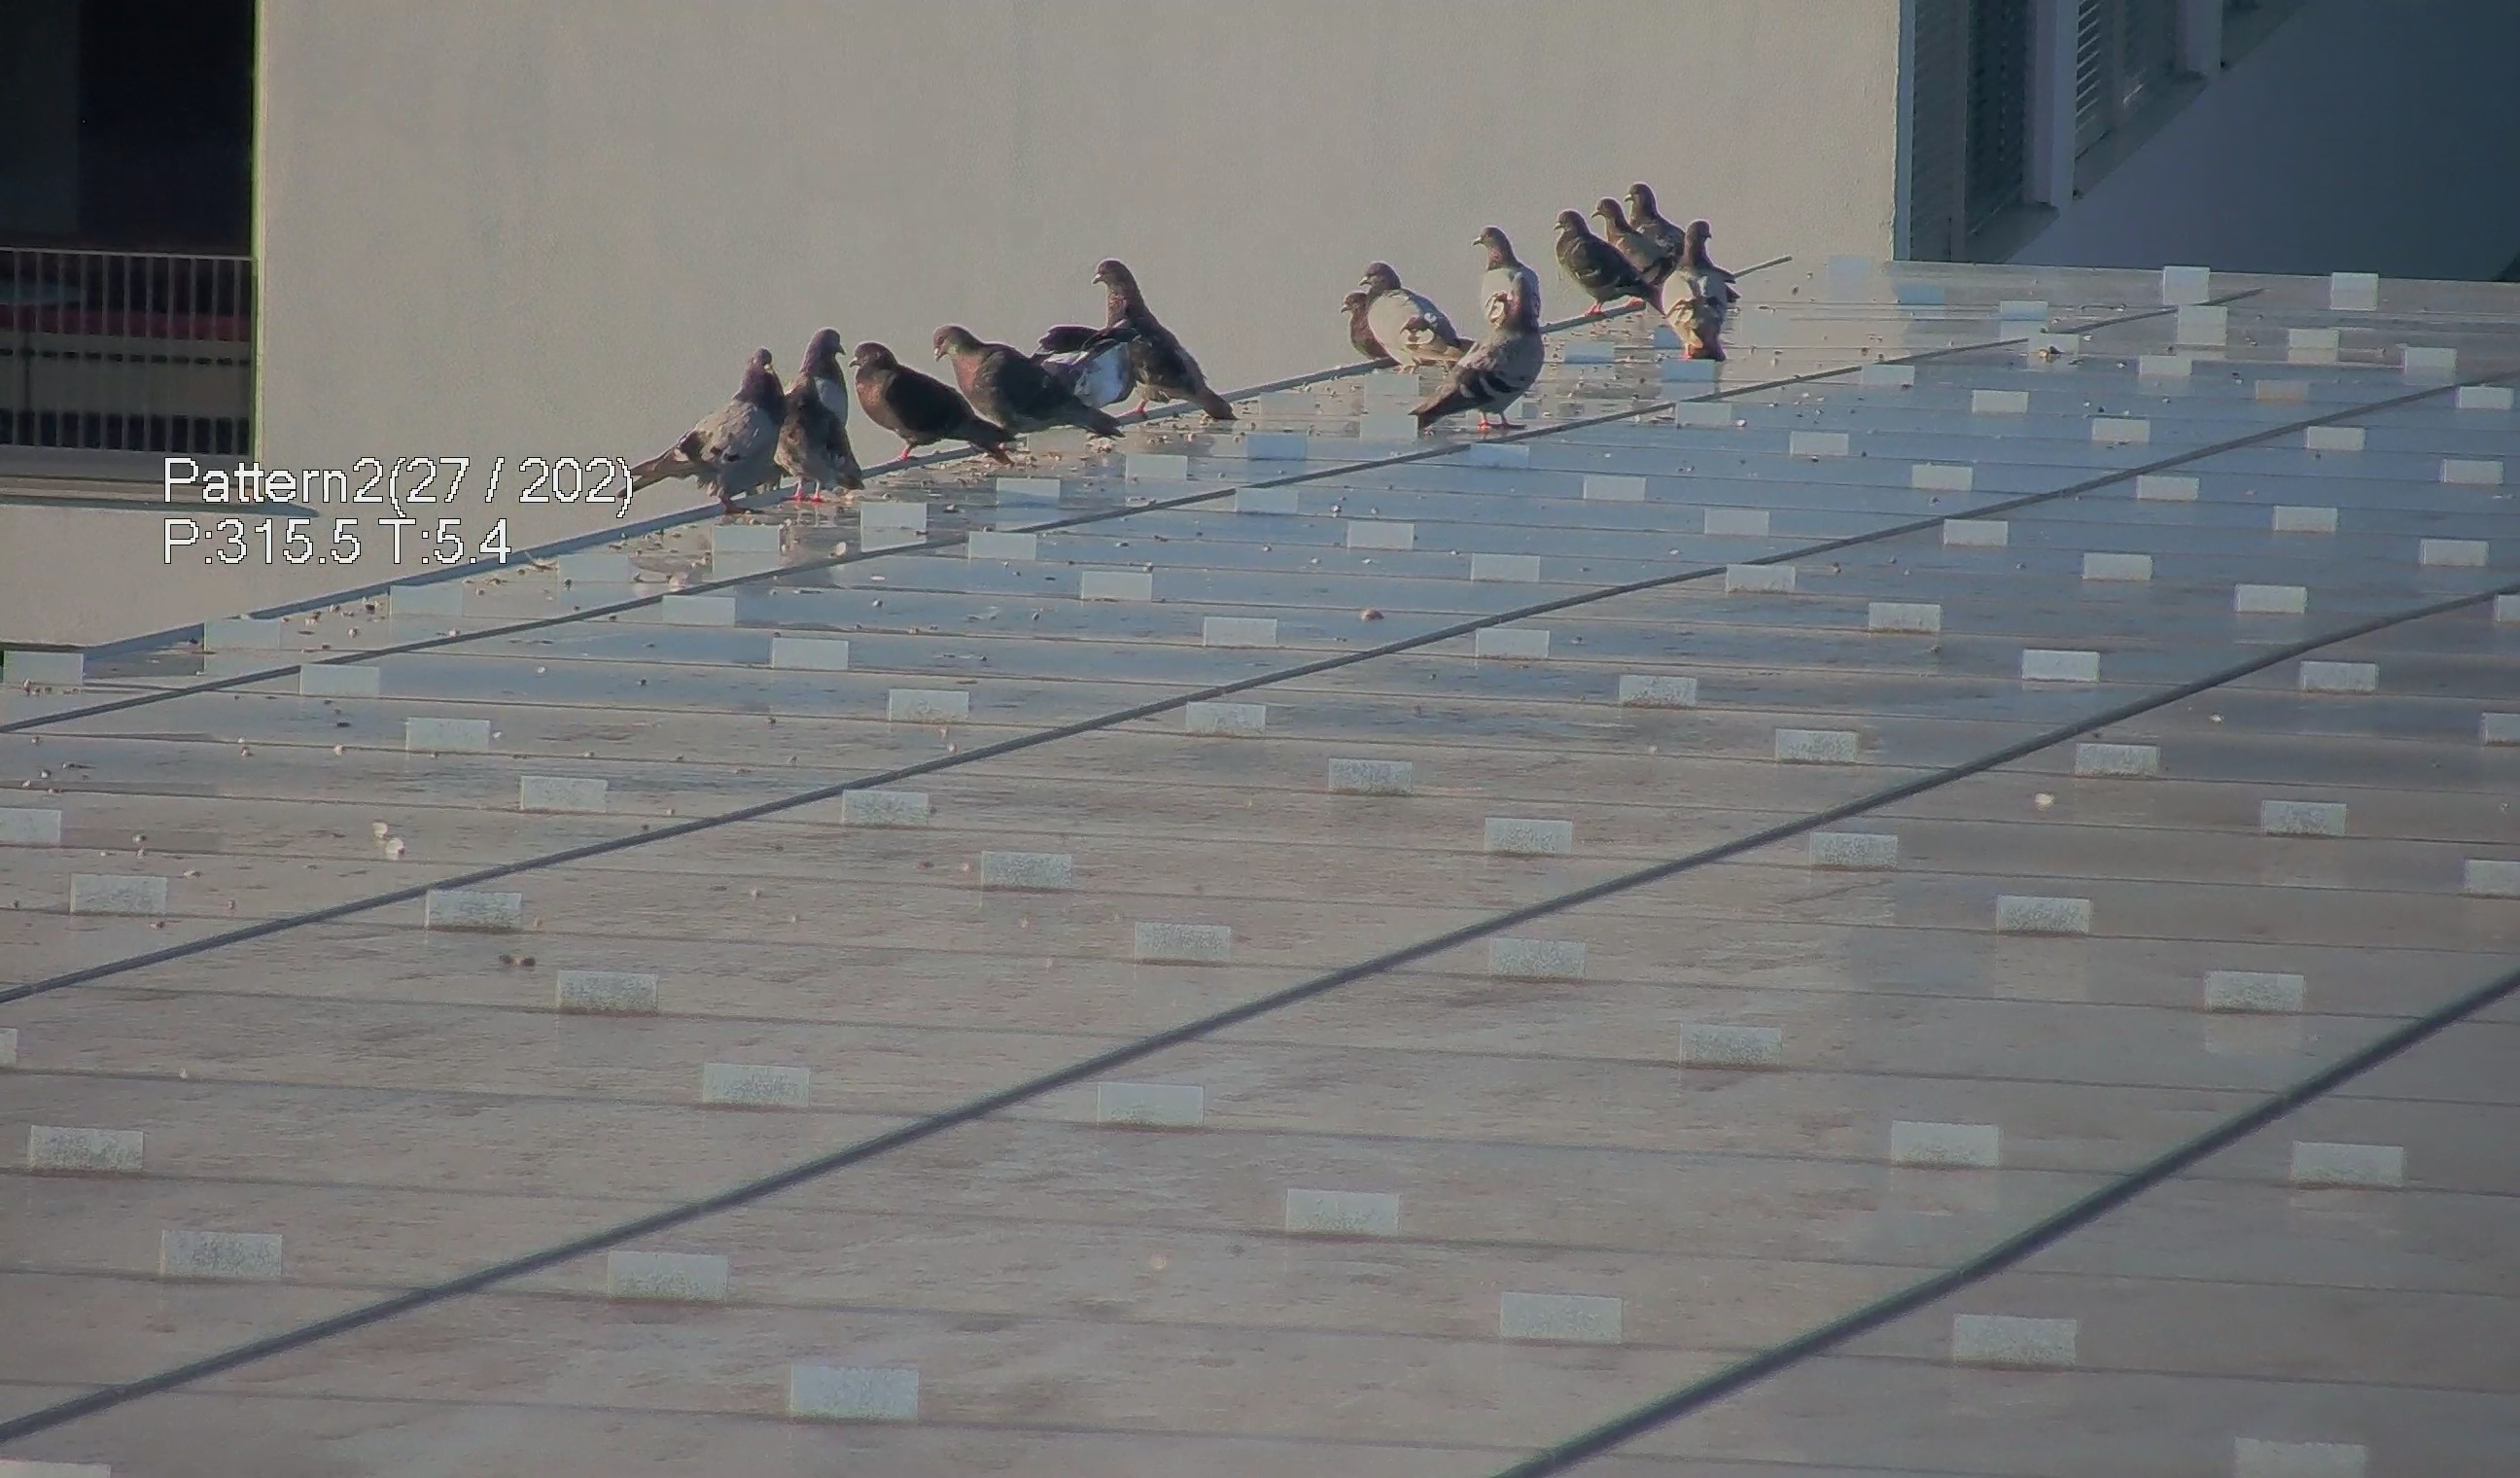Pigeon: (621, 345, 784, 523), (927, 324, 1120, 447), (846, 343, 1020, 475), (1097, 257, 1236, 419), (1414, 274, 1548, 436), (1655, 215, 1734, 368), (772, 371, 858, 509), (1549, 208, 1658, 311), (1365, 262, 1463, 364), (1036, 326, 1133, 408), (1588, 197, 1672, 271), (1470, 220, 1542, 306), (800, 311, 851, 428), (1623, 178, 1690, 250), (1340, 287, 1380, 368)
